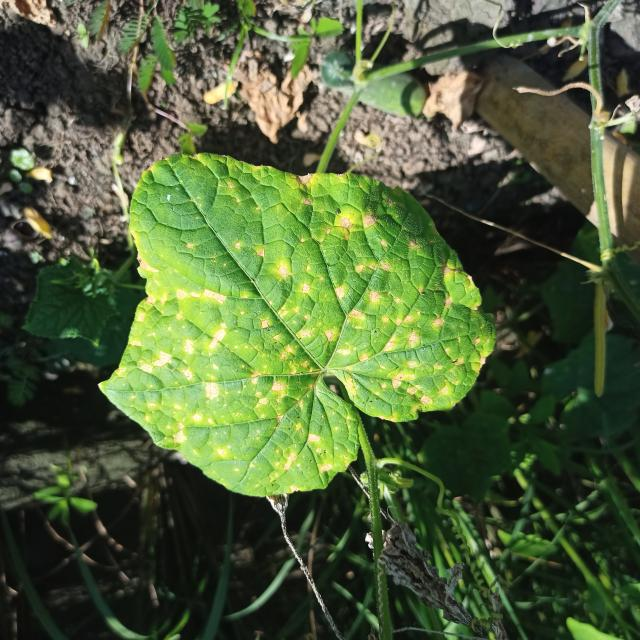disease_cucumber: (116, 181, 484, 490)
